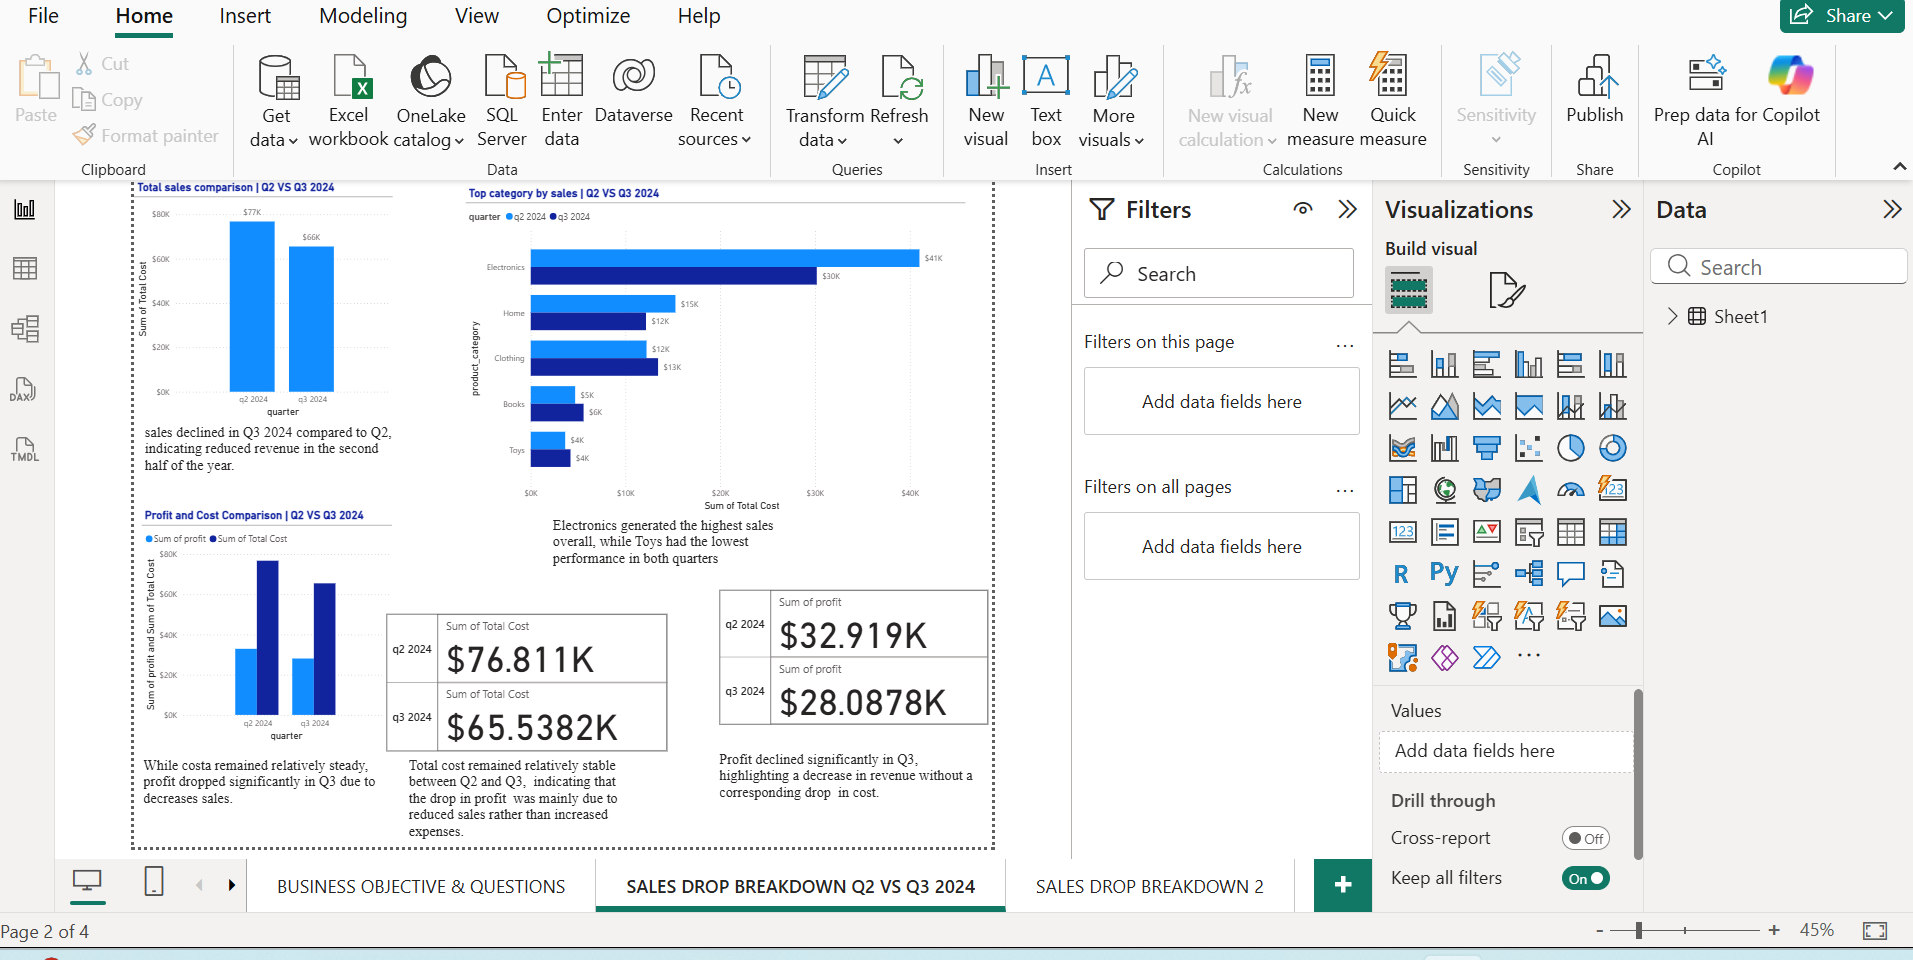

This screenshot's page, from the dashboard's own definition file:
{"tool":"powerbi","page":{"name":"SALES DROP BREAKDOWN Q2 VS Q3 2024","canvas":[1280,995],"ordinal":1},"visuals":[{"type":"clusteredColumnChart","title":"Total sales comparison | Q2 VS Q3 2024","fields":{"Category":["Sheet1.quarter"],"Y":["Sum(Sheet1.total cost)"]},"box":[0,0,386.1,358.2],"z":0},{"type":"clusteredColumnChart","title":"Profit and Cost Comparison | Q2 VS Q3 2024","fields":{"Category":["Sheet1.quarter"],"Y":["Sum(Sheet1.profit)","Sum(Sheet1.total cost)"]},"box":[11.9,489.5,374.1,350.2],"z":1000},{"type":"cardVisual","fields":{"Rows":["Sheet1.quarter"],"Data":["Sum(Sheet1.Total Sales)"]},"box":[372.1,622.9,429.8,256.7],"z":2000},{"type":"cardVisual","fields":{"Rows":["Sheet1.quarter"],"Data":["Sum(Sheet1.profit)"]},"box":[867.6,587.1,411.9,252.7],"z":3000},{"type":"clusteredBarChart","title":"Top category by sales |  Q2 VS Q3 2024","fields":{"Category":["Sheet1.product_category"],"Y":["Sum(Sheet1.total cost)"],"Series":["Sheet1.quarter"]},"box":[493.5,8,746.3,489.5],"z":4000},{"type":"textbox","box":[11.9,358.2,386.1,95.5],"z":5000},{"type":"textbox","box":[618.9,497.5,402,93.5],"z":6000},{"type":"textbox","box":[10,853.7,376.1,95.5],"z":7000},{"type":"textbox","box":[406,853.7,334.3,141.3],"z":8000},{"type":"textbox","box":[868,845,412,150],"z":9000}]}

Visuals, with their boxes on the page's 1280x995 design canvas (x1, y1, x2, y2). These are canvas units, not pixel positions in the 1913x960 screenshot, which may show the page scaled, cropped or inside an application window:
"Total sales comparison | Q2 VS Q3 2024" clusteredColumnChart: box=[0, 0, 386, 358]
"Profit and Cost Comparison | Q2 VS Q3 2024" clusteredColumnChart: box=[12, 490, 386, 840]
cardVisual - Sheet1.quarter x Sum(Sheet1.Total Sales): box=[372, 623, 802, 880]
cardVisual - Sheet1.quarter x Sum(Sheet1.profit): box=[868, 587, 1280, 840]
"Top category by sales |  Q2 VS Q3 2024" clusteredBarChart: box=[494, 8, 1240, 498]
textbox: box=[12, 358, 398, 454]
textbox: box=[619, 498, 1021, 591]
textbox: box=[10, 854, 386, 949]
textbox: box=[406, 854, 740, 995]
textbox: box=[868, 845, 1280, 995]
